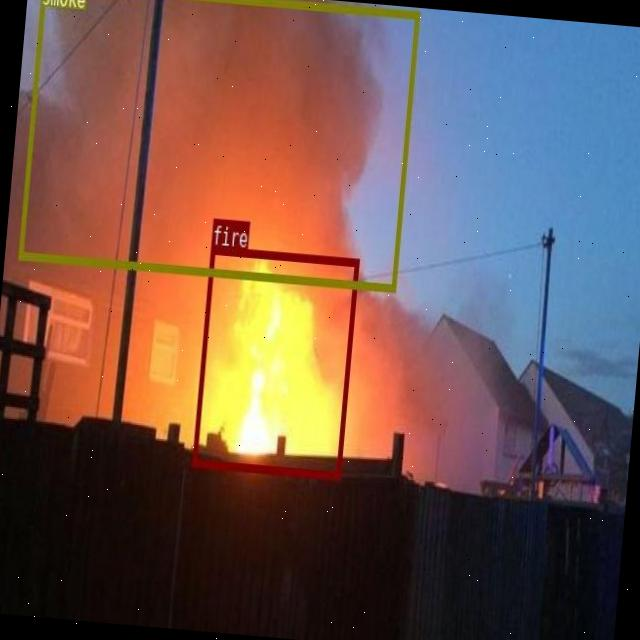fire: (192, 245, 359, 478)
smoke: (17, 0, 418, 289)
